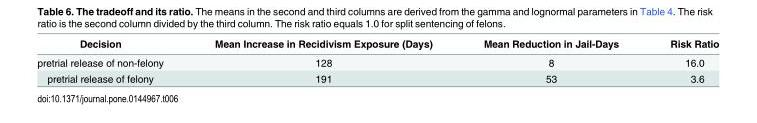table: (36, 37, 718, 83)
table column: (188, 37, 457, 83), (457, 37, 643, 83), (36, 37, 188, 83), (643, 37, 718, 83)
table column header: (36, 37, 718, 52)
table row: (36, 52, 718, 70), (36, 37, 718, 52), (36, 70, 718, 83)
